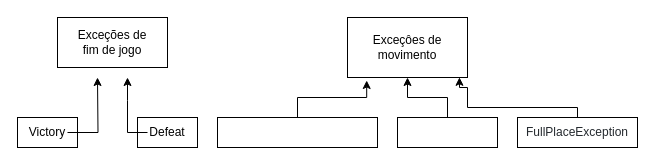
Some shapes in this 655 by 165 pixel diagram are drawn without their labels. The centre of each missing label's shape, as x and y in pixels:
"DoorSelected" belongs at point 447,132.
"ImpossibleOriginOrDestiny" belongs at point 297,132.
